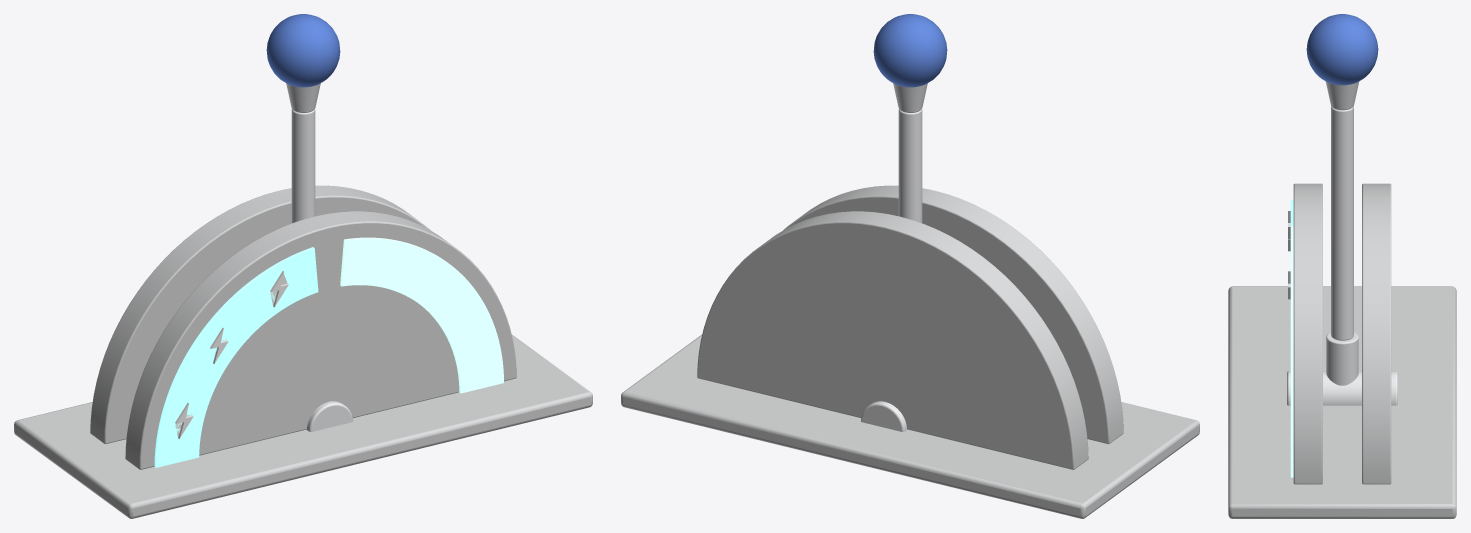
File: Lever.fbx
3 views of the same model, side by side, from view 1: azimuth 30°, elevation 25°; view 2: azimuth 150°, elevation 25°; view 3: azimuth 270°, elevation 25° (orthographic). The views are drawn at different scales.
Parts seen in each view (by area): view 1: Lever_Arch_Front, Lever_BasePlate, Lever_Arch_Back, Lever_IconStrip_Right, Lever_IconStrip_Left, Lever_Knob, Lever_Pole, Lever_Hinge, Lever_Icons_Energy, Lever_Neck; view 2: Lever_Arch_Back, Lever_BasePlate, Lever_Arch_Front, Lever_Knob, Lever_Pole, Lever_Hinge, Lever_Neck; view 3: Lever_BasePlate, Lever_Arch_Back, Lever_Arch_Front, Lever_Pole, Lever_Knob, Lever_Bottom, Lever_Hinge, Lever_IconStrip_Right, Lever_Neck.
Part boxes in pixels (x1,y1,x2,y2): Lever_Arch_Front: (125,211,516,469); Lever_BasePlate: (14,334,592,518); Lever_Arch_Back: (90,185,430,444); Lever_IconStrip_Right: (340,237,503,393); Lever_IconStrip_Left: (154,247,318,467); Lever_Knob: (266,14,340,87); Lever_Pole: (291,109,315,223); Lever_Hinge: (306,401,352,431); Lever_Icons_Energy: (175,271,288,438); Lever_Neck: (286,83,320,112); Lever_Arch_Back: (697,211,1088,469); Lever_BasePlate: (621,334,1199,518); Lever_Arch_Front: (783,185,1123,444); Lever_Knob: (873,14,947,87); Lever_Pole: (898,109,922,223); Lever_Hinge: (861,401,907,431); Lever_Neck: (893,83,927,112); Lever_BasePlate: (1228,286,1456,518); Lever_Arch_Back: (1362,183,1391,484); Lever_Arch_Front: (1293,183,1322,484); Lever_Pole: (1331,106,1353,340); Lever_Knob: (1306,14,1378,85); Lever_Bottom: (1326,332,1358,385); Lever_Hinge: (1287,371,1397,405); Lever_IconStrip_Right: (1290,226,1293,477); Lever_Neck: (1325,81,1359,110).
Bounding box in the file's own units: 160 × 135 × 70.
